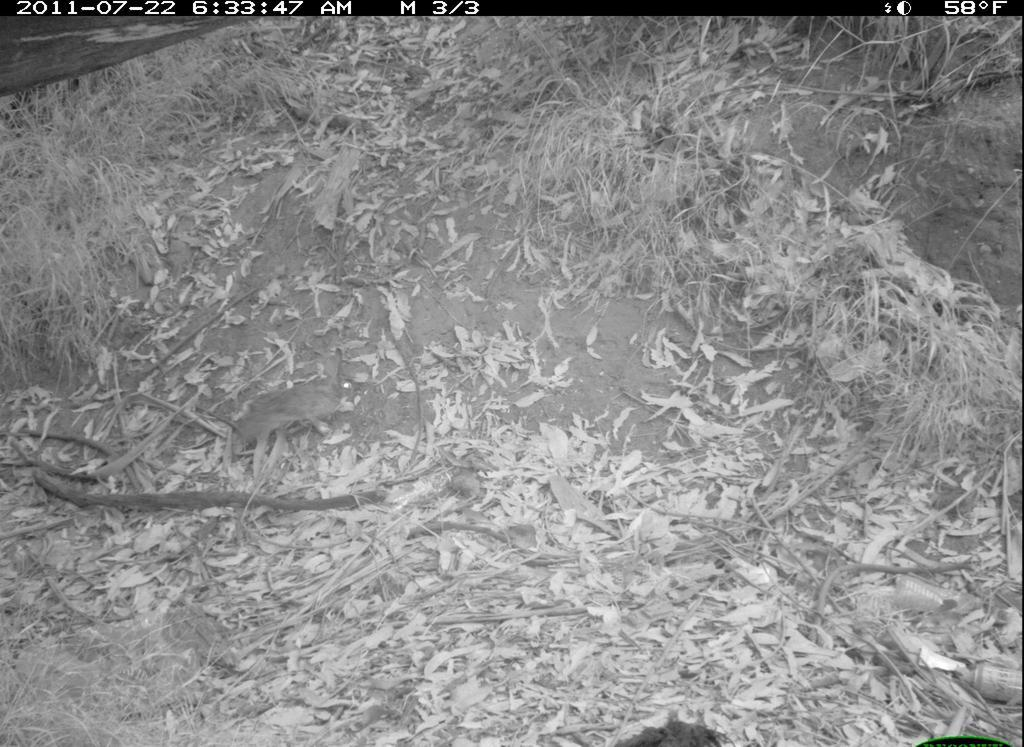rabbit: (230, 342, 369, 462)
